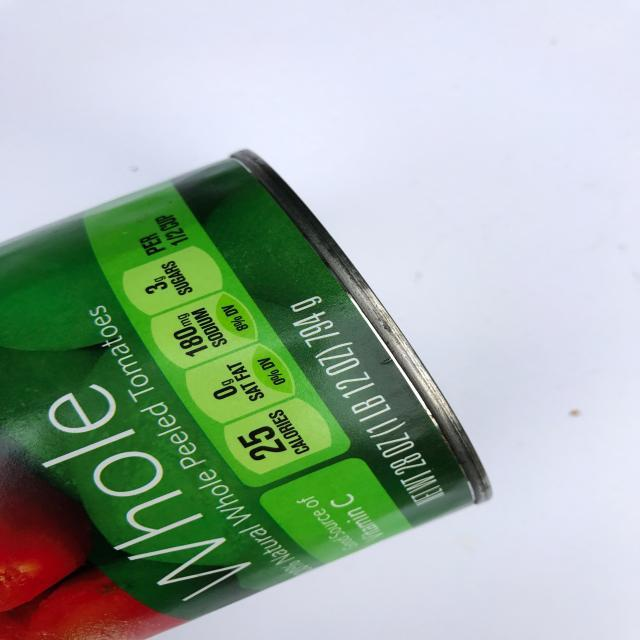metal: (2, 148, 492, 640)
